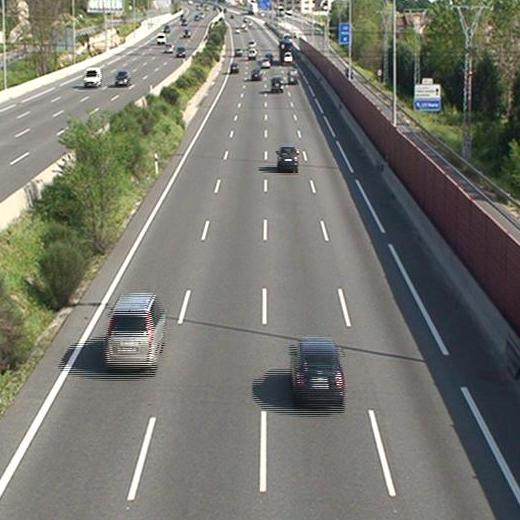car: (105, 294, 166, 365), (290, 340, 345, 403), (277, 147, 299, 167), (271, 77, 284, 89), (250, 69, 261, 80), (229, 63, 239, 74), (261, 57, 269, 67)
van: (287, 69, 298, 85)
